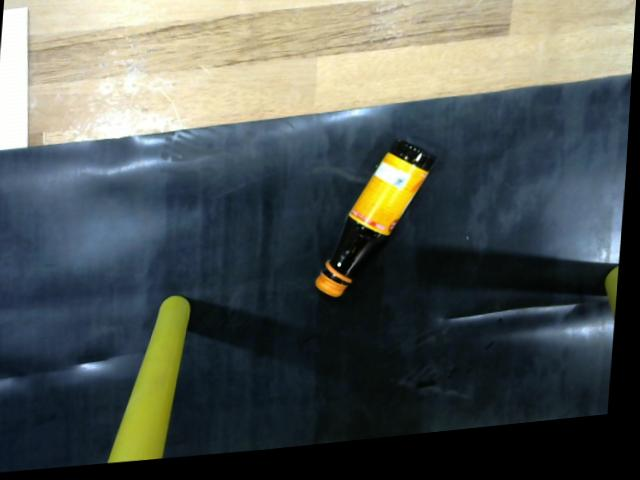glass: (306, 129, 452, 319)
